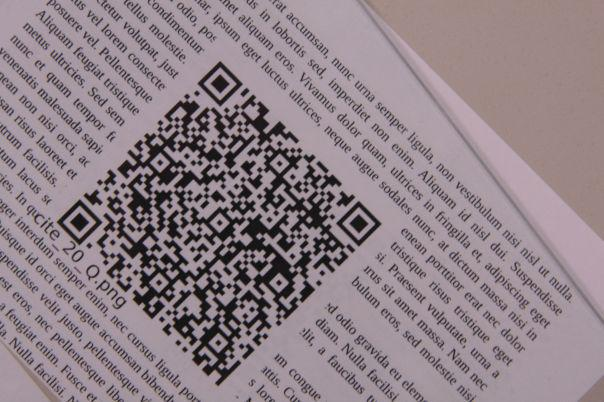Finder pattern: (336, 199, 383, 247), (196, 62, 244, 106), (58, 197, 99, 245)
